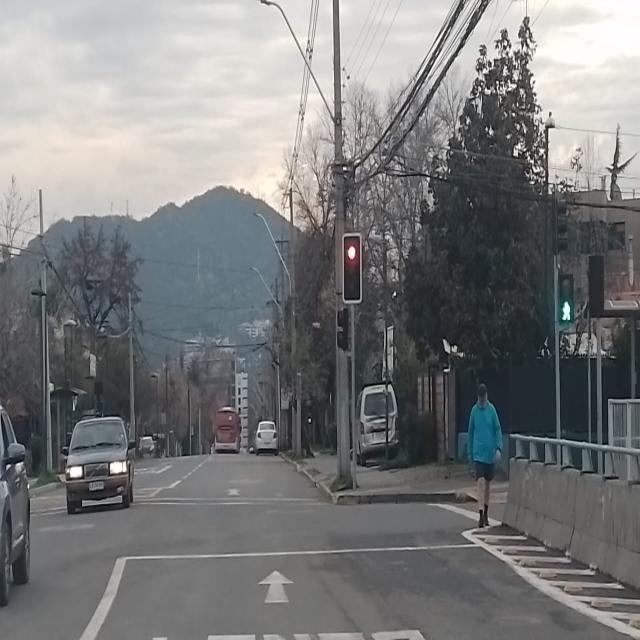person: (467, 386, 505, 532)
